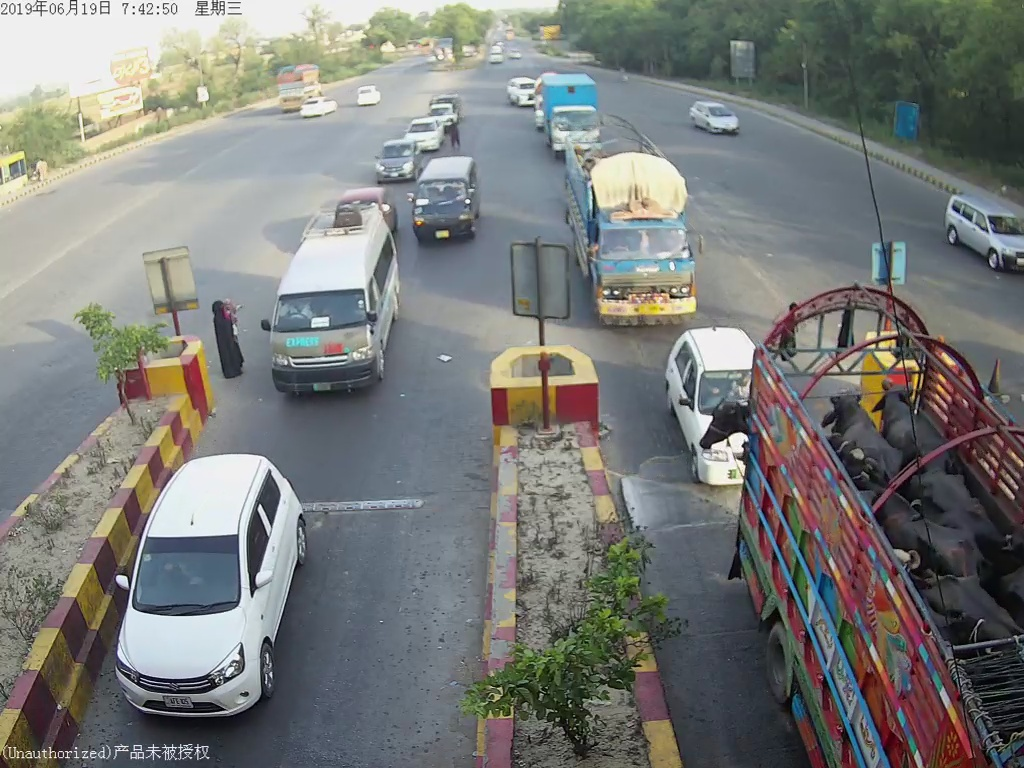Cat-1: (117, 459, 314, 710), (661, 331, 745, 493)
Cat-2: (270, 212, 411, 405), (412, 161, 477, 244)
Cat-4: (565, 132, 712, 325)
